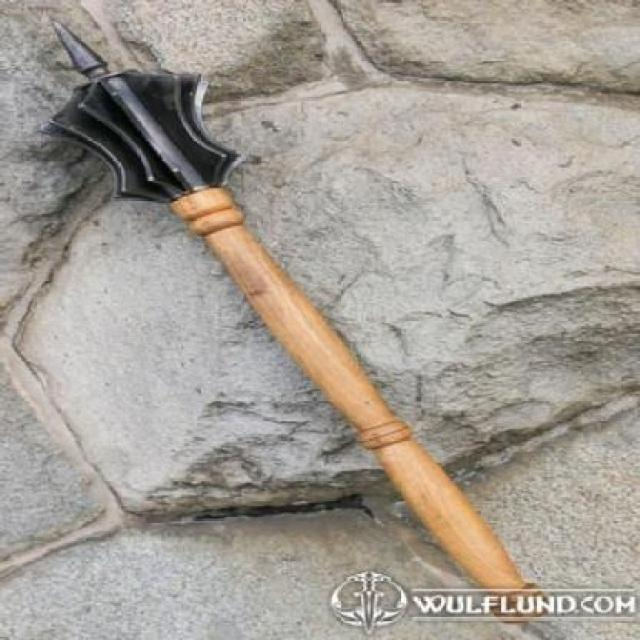weapon: (45, 10, 550, 620)
